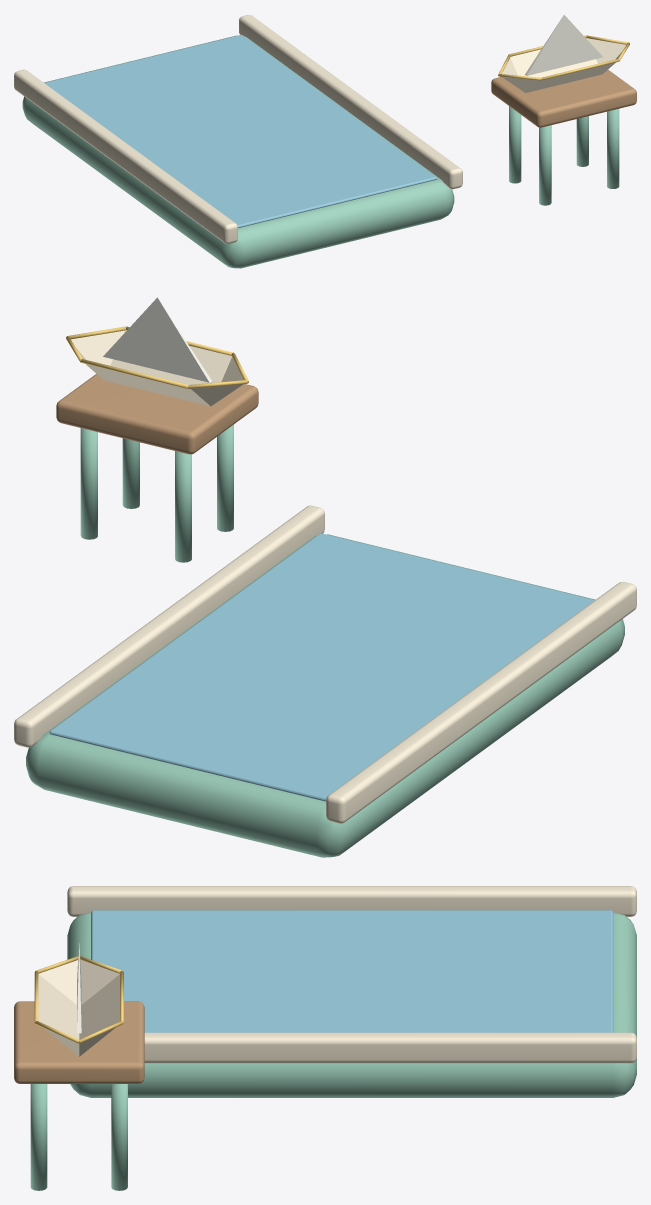
The model's file is play-boat.glb.
3 views of the same model, one above another, from view 1: azimuth 30°, elevation 25°; view 2: azimuth 150°, elevation 25°; view 3: azimuth 270°, elevation 25° (orthographic). The views are drawn at different scales.
Parts seen in each view (by area): view 1: Scenery surfaces, Boat surfaces; view 2: Scenery surfaces, Boat surfaces; view 3: Scenery surfaces, Boat surfaces.
Part boxes in pixels (x1,y1,x2,y2): Scenery surfaces: (14,15,636,268); Boat surfaces: (498,15,629,92); Scenery surfaces: (14,374,636,857); Boat surfaces: (66,297,248,406); Scenery surfaces: (14,886,636,1190); Boat surfaces: (34,941,123,1056).
Size of the model in its own units: 2.65 by 1.1 by 2.63.
